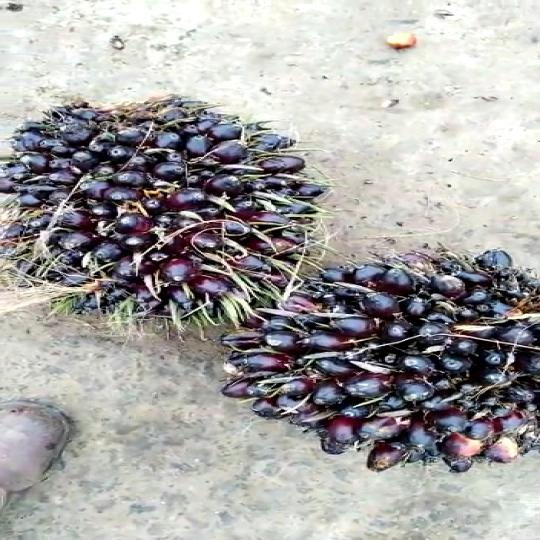mentah: (10, 90, 318, 332), (215, 247, 538, 473)
